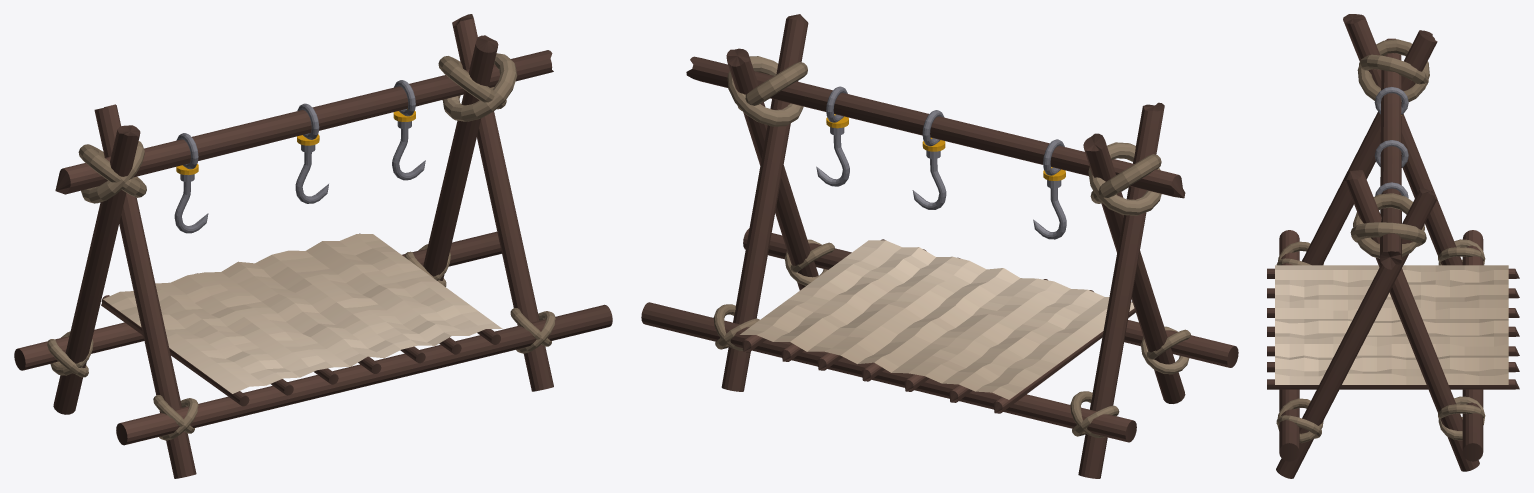
The model's file is SecaPlantas_Lab__LoPo.fbx.
3 renders of one model, left to right at view 1: azimuth 30°, elevation 25°; view 2: azimuth 150°, elevation 25°; view 3: azimuth 270°, elevation 25°, orthographic. The views are drawn at different scales.
Parts seen in each view (by area): view 1: SecaPlantas_Lab__LoPo; view 2: SecaPlantas_Lab__LoPo; view 3: SecaPlantas_Lab__LoPo.
Part boxes in pixels (left/top/right/bottom): SecaPlantas_Lab__LoPo: left=14, top=14, right=612, bottom=478; SecaPlantas_Lab__LoPo: left=641, top=14, right=1238, bottom=478; SecaPlantas_Lab__LoPo: left=1267, top=14, right=1519, bottom=478.
Size of the model in its own units: 225 by 144 by 111.
